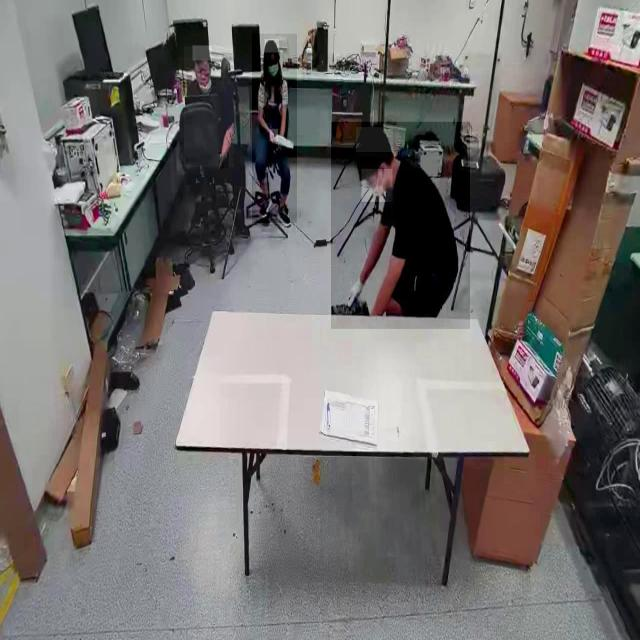face_mask: (362, 169, 392, 202), (264, 49, 280, 83)
hand_glove: (342, 271, 366, 315)
hand_noglove: (218, 152, 228, 169), (269, 129, 278, 142)
head_nohelmet: (355, 127, 393, 153), (192, 46, 212, 61), (264, 39, 279, 53)
person: (330, 122, 470, 330), (251, 34, 297, 224), (184, 46, 234, 168)
shoes: (256, 188, 274, 222), (275, 200, 293, 229)
